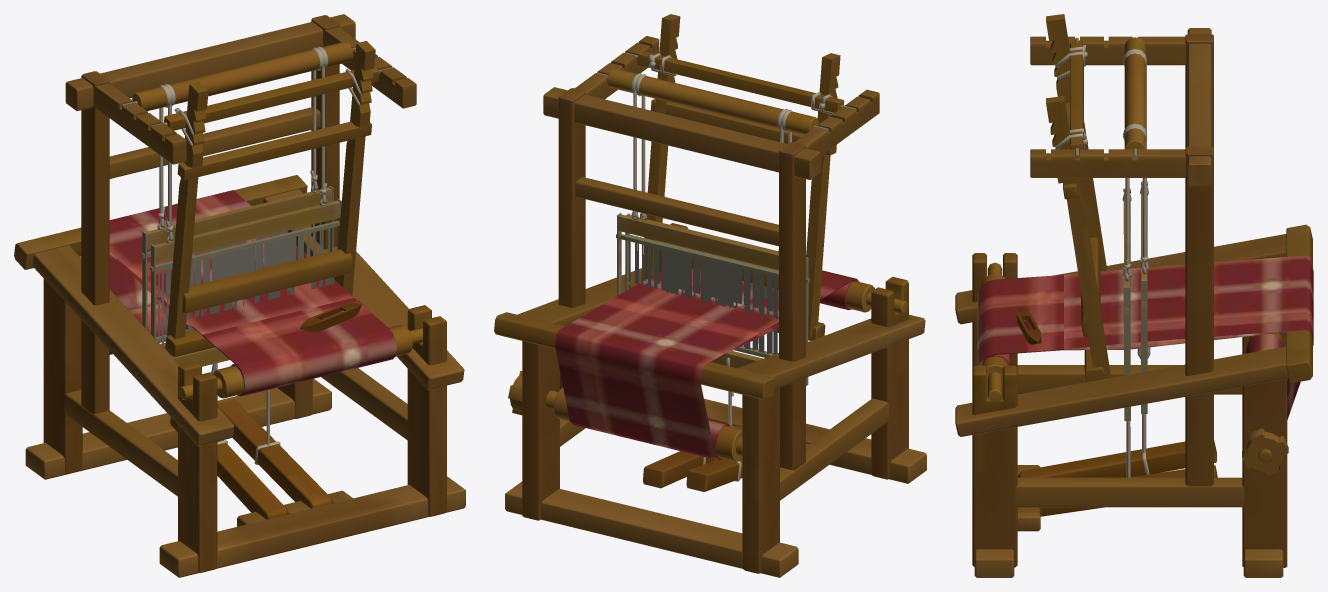
3 renders of one model, left to right at view 1: azimuth 30°, elevation 25°; view 2: azimuth 150°, elevation 25°; view 3: azimuth 270°, elevation 25°, orthographic. The views are drawn at different scales.
Bounding box in the file's own units: 14.79 × 21.97 × 15.81.
3 materials, 3 textured.
